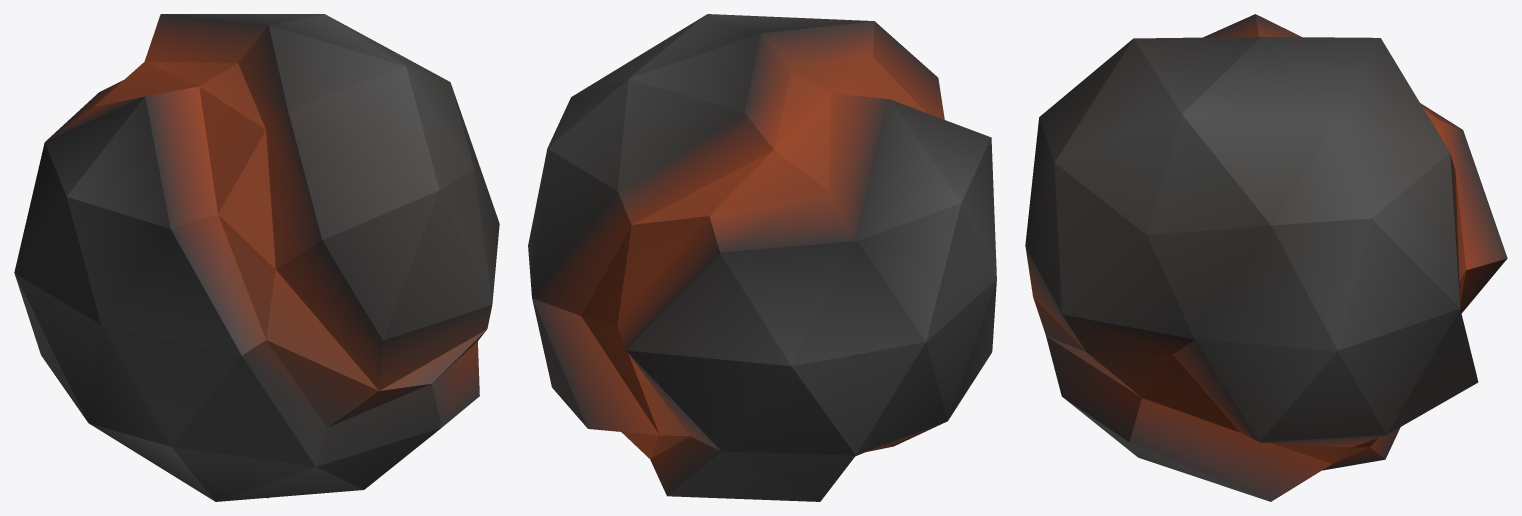
File: PlanetExtensions_Moon02.fbx
3 renders of one model, left to right at view 1: azimuth 30°, elevation 25°; view 2: azimuth 150°, elevation 25°; view 3: azimuth 270°, elevation 25°, orthographic. The views are drawn at different scales.
Parts seen in each view (by area): view 1: Moon02; view 2: Moon02; view 3: Moon02.
Part boxes in pixels (x1=…): Moon02: x1=14, y1=14, x2=499, y2=501; Moon02: x1=528, y1=14, x2=996, y2=501; Moon02: x1=1025, y1=14, x2=1507, y2=501.
Bounding box in the file's own units: 9.3 × 10.25 × 10.
